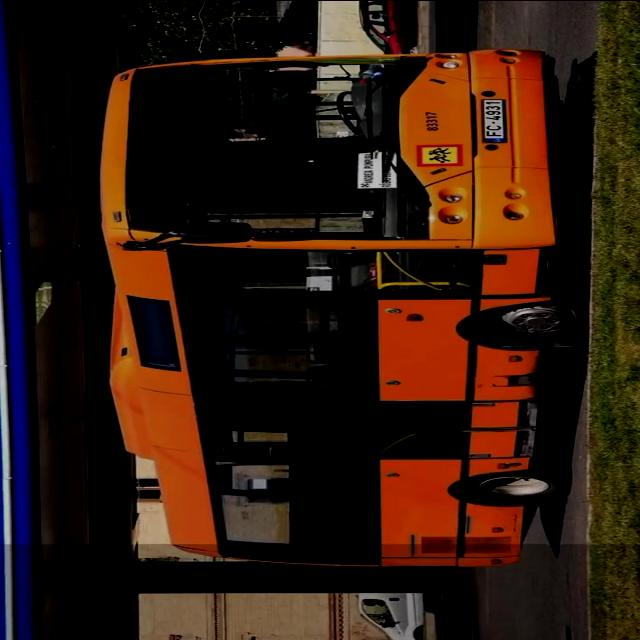bus: (92, 40, 602, 574)
